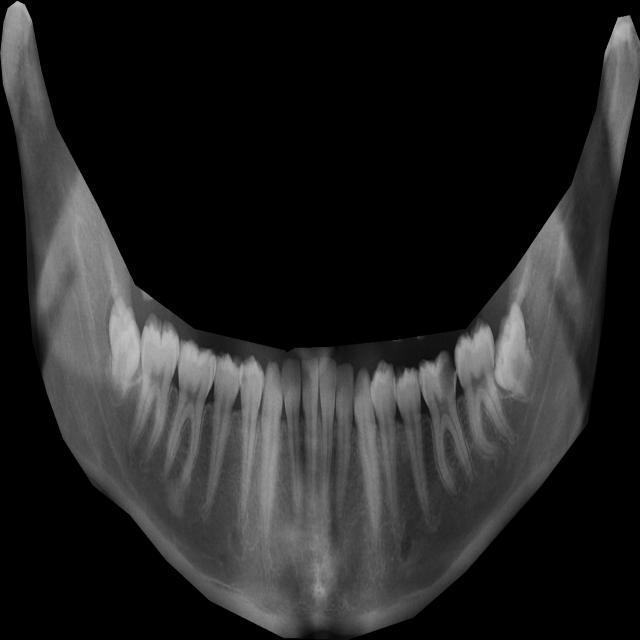mandibula: (0, 1, 640, 640)
